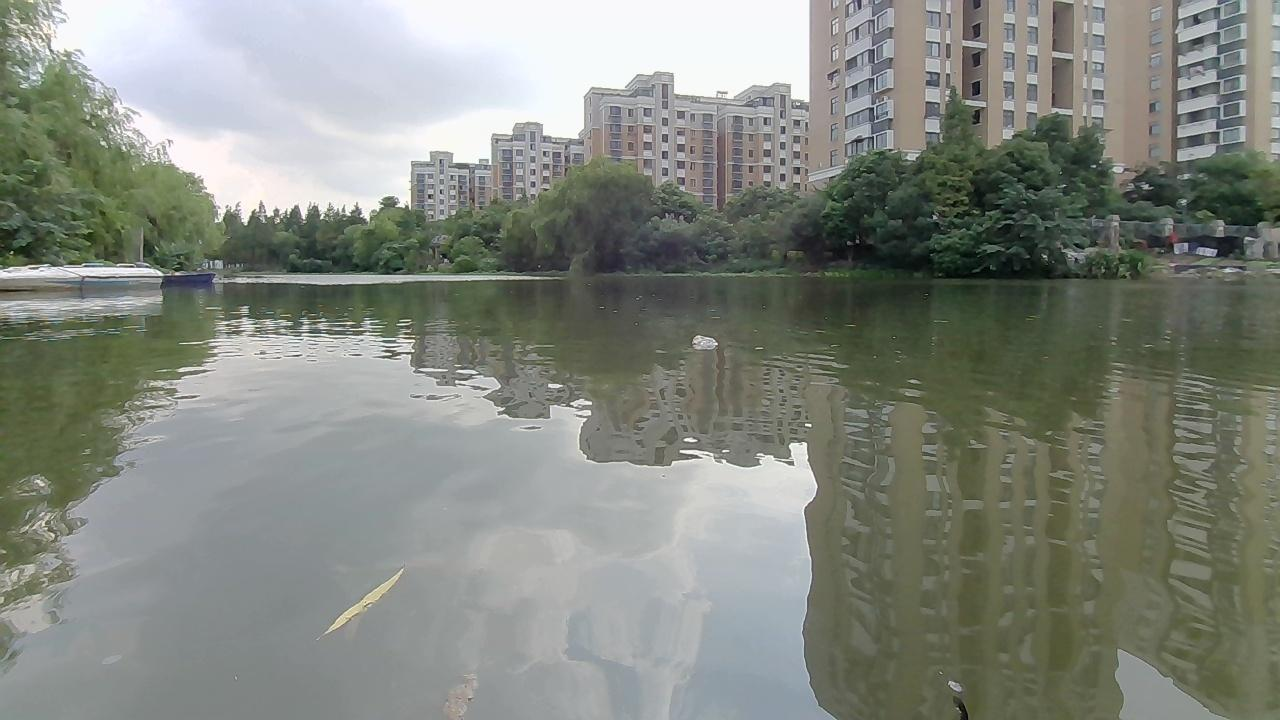bottle: (691, 334, 723, 352)
